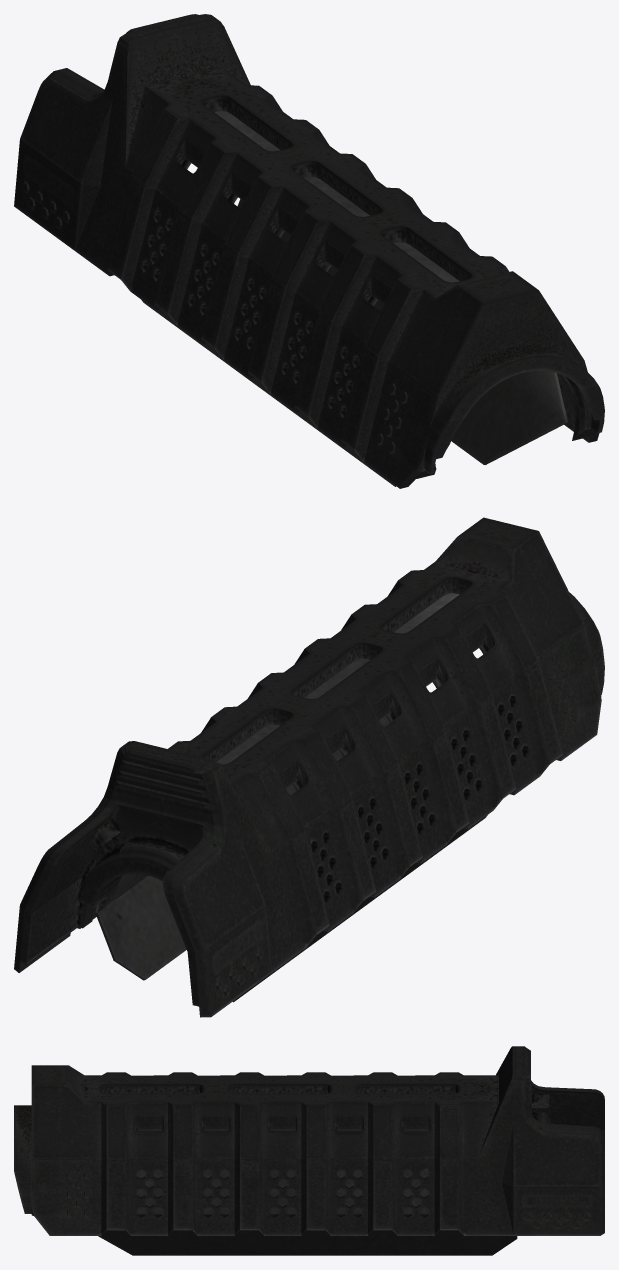
The picture shows the model from 3 angles, top to bottom: view 1: azimuth 30°, elevation 25°; view 2: azimuth 150°, elevation 25°; view 3: azimuth 270°, elevation 25°; orthographic projection. The views are drawn at different scales.
Parts seen in each view (by area): view 1: TW_637f589af5ef8c33840d36d3_PZ_Import; view 2: TW_637f589af5ef8c33840d36d3_PZ_Import; view 3: TW_637f589af5ef8c33840d36d3_PZ_Import.
Boxes of the visible parts, <box> form: TW_637f589af5ef8c33840d36d3_PZ_Import: <box>14,14,604,488</box>; TW_637f589af5ef8c33840d36d3_PZ_Import: <box>14,517,604,1017</box>; TW_637f589af5ef8c33840d36d3_PZ_Import: <box>14,1046,604,1255</box>.
Bounding box in the file's own units: 0.0311 × 0.1068 × 0.0358.
Materials: 1 (1 with a texture image).
